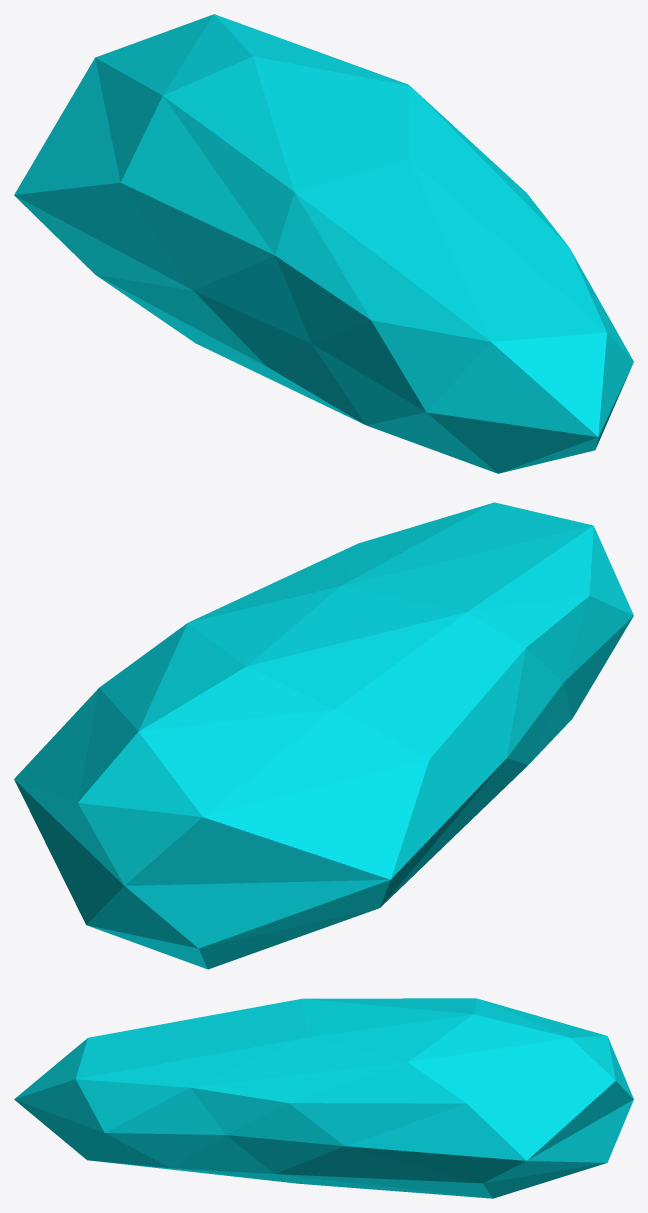
Rendered from Light Ship Fighter.fbx.
The picture shows the model from 3 angles, top to bottom: view 1: azimuth 30°, elevation 25°; view 2: azimuth 150°, elevation 25°; view 3: azimuth 270°, elevation 25°; orthographic projection. The views are drawn at different scales.
Visible parts, largest first — view 1: Shield; view 2: Shield; view 3: Shield.
Part boxes in pixels (x1=…): Shield: x1=14, y1=14, x2=633, y2=473; Shield: x1=14, y1=502, x2=633, y2=969; Shield: x1=14, y1=998, x2=633, y2=1198.
Size of the model in its own units: 607 by 1289 by 386.
